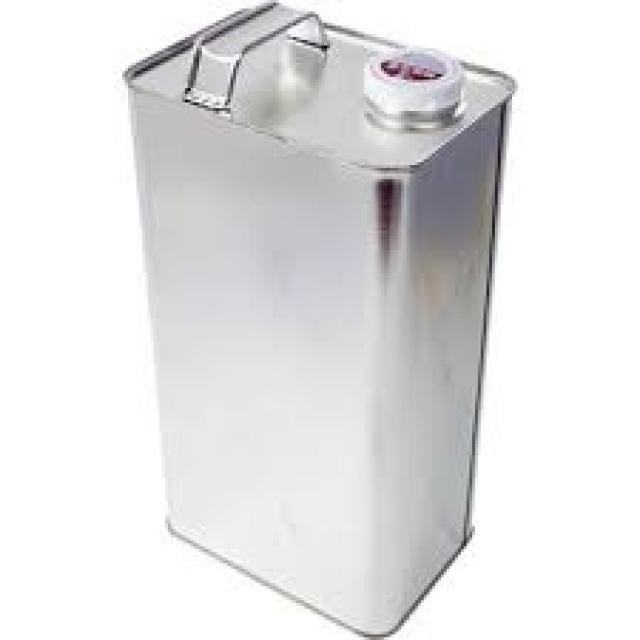recyclable: (119, 0, 515, 640)
